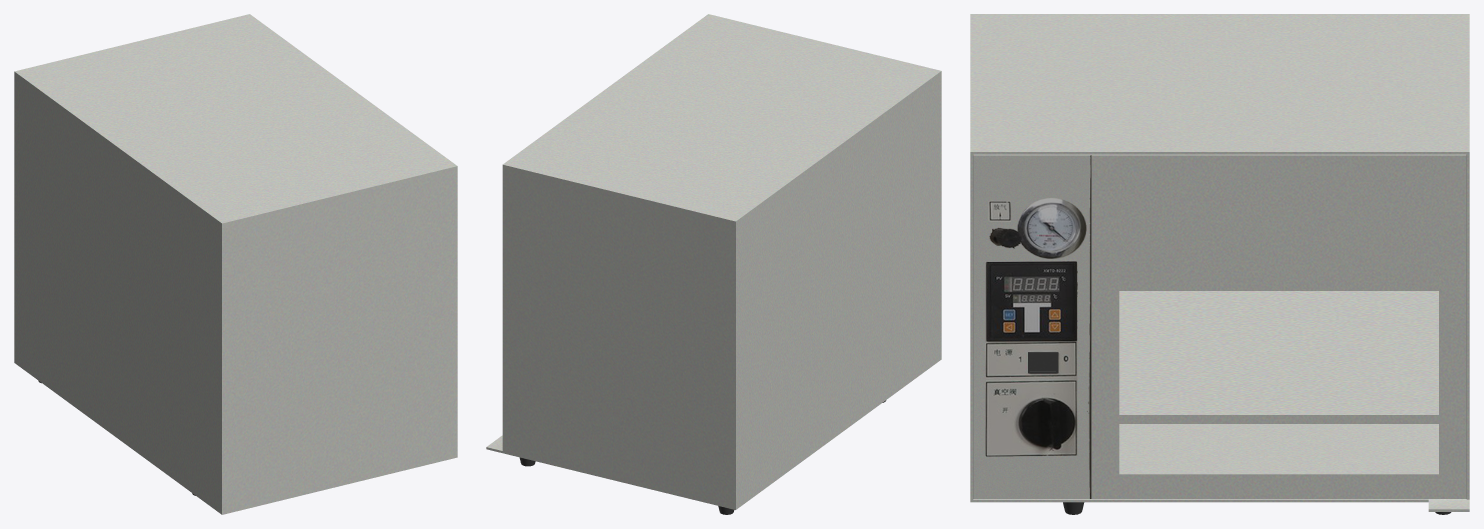
File: SM_恒温干燥箱.FBX
The picture shows the model from 3 angles, left to right: view 1: azimuth 30°, elevation 25°; view 2: azimuth 150°, elevation 25°; view 3: azimuth 270°, elevation 25°; orthographic projection. The views are drawn at different scales.
Visible parts, largest first — view 1: SM_恒温干燥箱; view 2: SM_恒温干燥箱; view 3: SM_恒温干燥箱.
Boxes of the visible parts, x1,y1,x2,y2 form: SM_恒温干燥箱: (14,14,457,514); SM_恒温干燥箱: (486,14,941,514); SM_恒温干燥箱: (970,14,1469,514).
Bounding box in the file's own units: 535 × 621 × 764.
